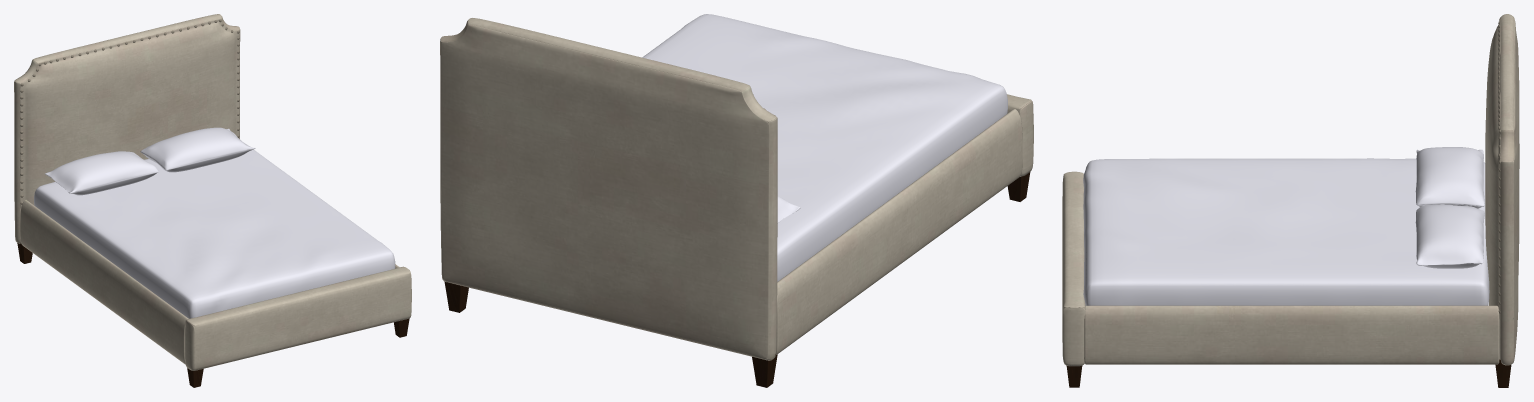
Rendered from bed-queen-nailhead.glb.
3 renders of one model, left to right at view 1: azimuth 30°, elevation 25°; view 2: azimuth 150°, elevation 25°; view 3: azimuth 270°, elevation 25°, orthographic. The views are drawn at different scales.
Parts seen in each view (by area): view 1: RootNode; view 2: RootNode; view 3: RootNode.
Boxes of the visible parts, bbox=[...] form: RootNode: bbox=[14, 14, 411, 387]; RootNode: bbox=[440, 14, 1033, 387]; RootNode: bbox=[1062, 14, 1519, 387].
Bounding box in the file's own units: 1.68 × 1.42 × 2.34.
Materials: 1 (1 with a texture image).
